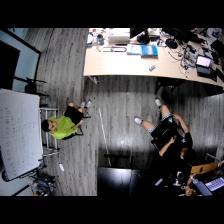normal: (135, 99, 199, 166), (43, 100, 91, 138)
